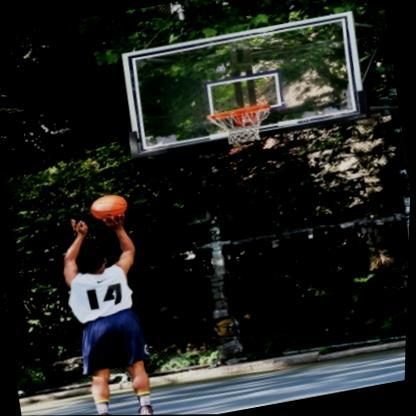basketball: (89, 191, 131, 222)
rim: (206, 103, 277, 148)
